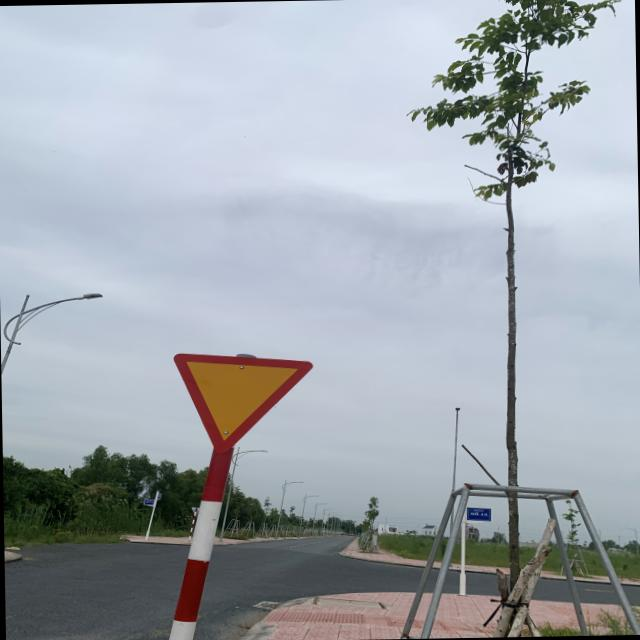Gioi_Han_Toc_Do_25: (172, 350, 314, 454)
